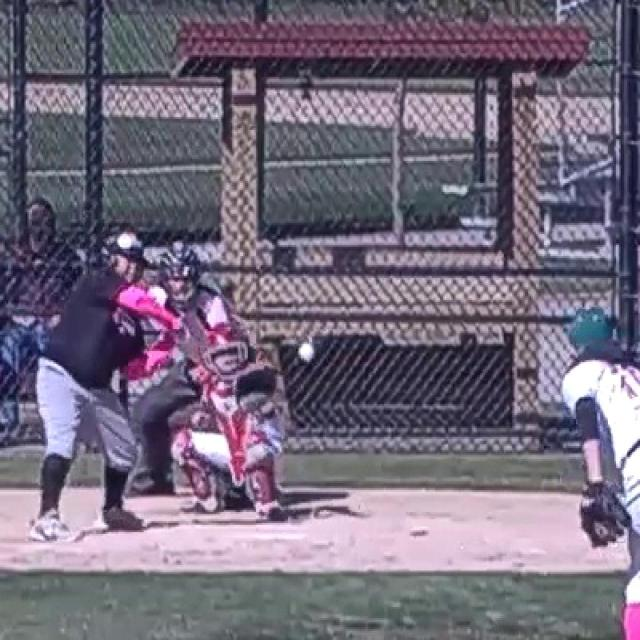baseball: (298, 344, 314, 362)
